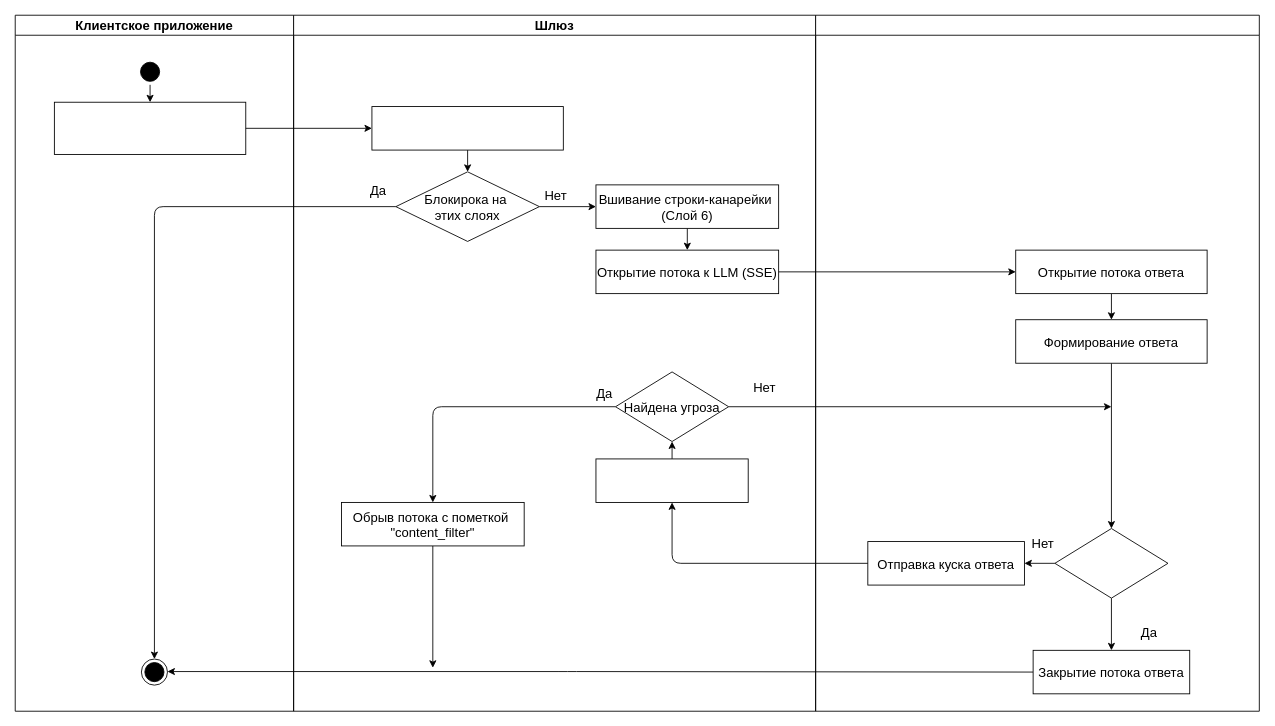
This 1275x726 diagram has some shape labels left out. The box of each missing label's shape, as (x1, y1, x2, y2) in pixels:
Внешний LLM: (815, 14, 1259, 711)
Все куски отправлены: (1054, 528, 1168, 598)
Отправка запроса на endpoint v1/chat/completions: (54, 101, 246, 154)
Проверка слоем 6: (595, 458, 748, 502)
Прогон через слои 1-5: (371, 106, 563, 150)
